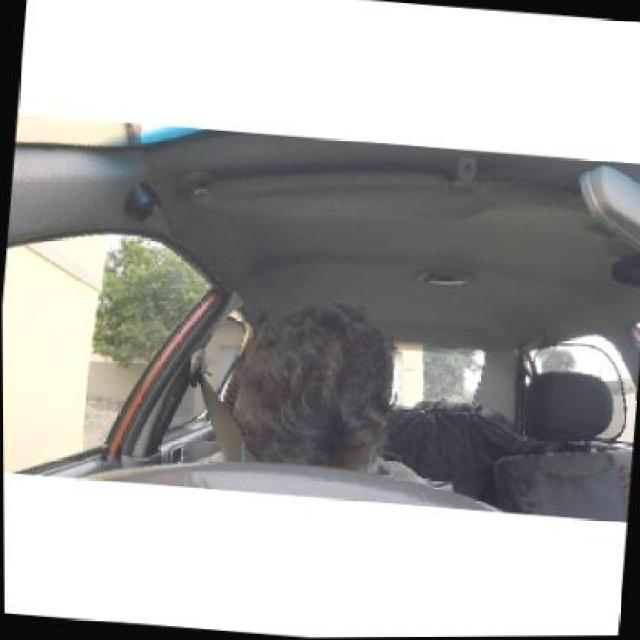drowsy: (227, 297, 396, 468)
